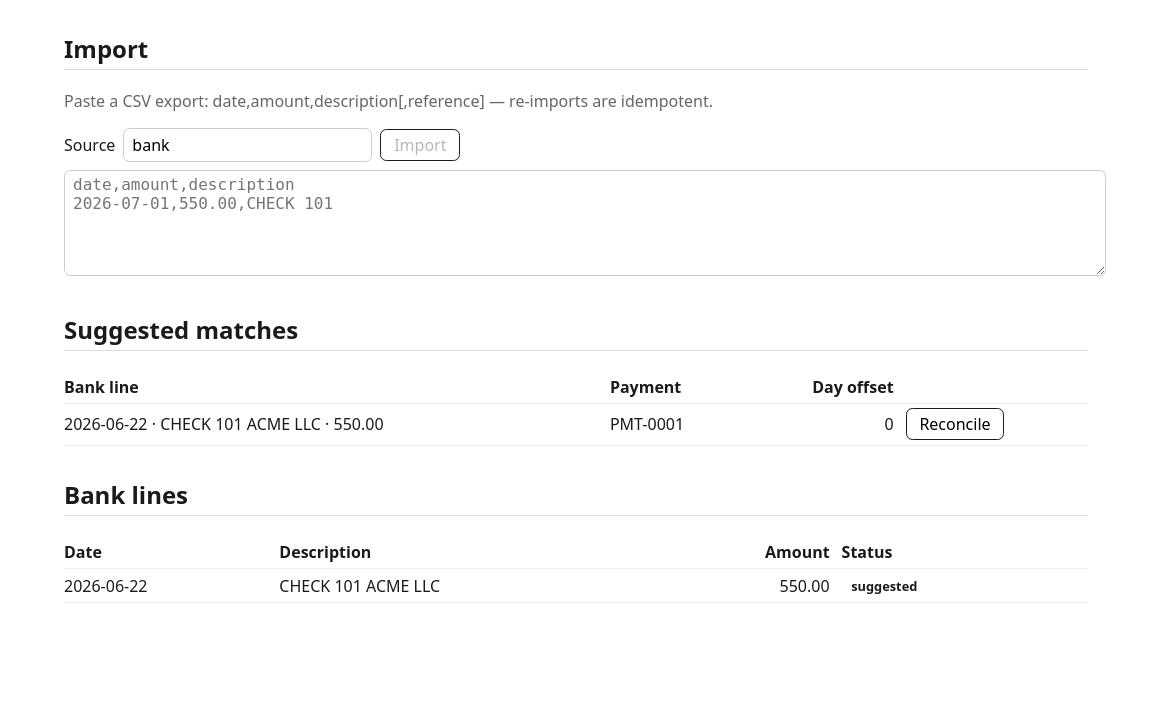
Test: bank reconciliation view (ADR 0020) › surfaces the API error code, not just prose
Click the button "Reconcile". click: (955, 424)
box: [906,408,1004,440]
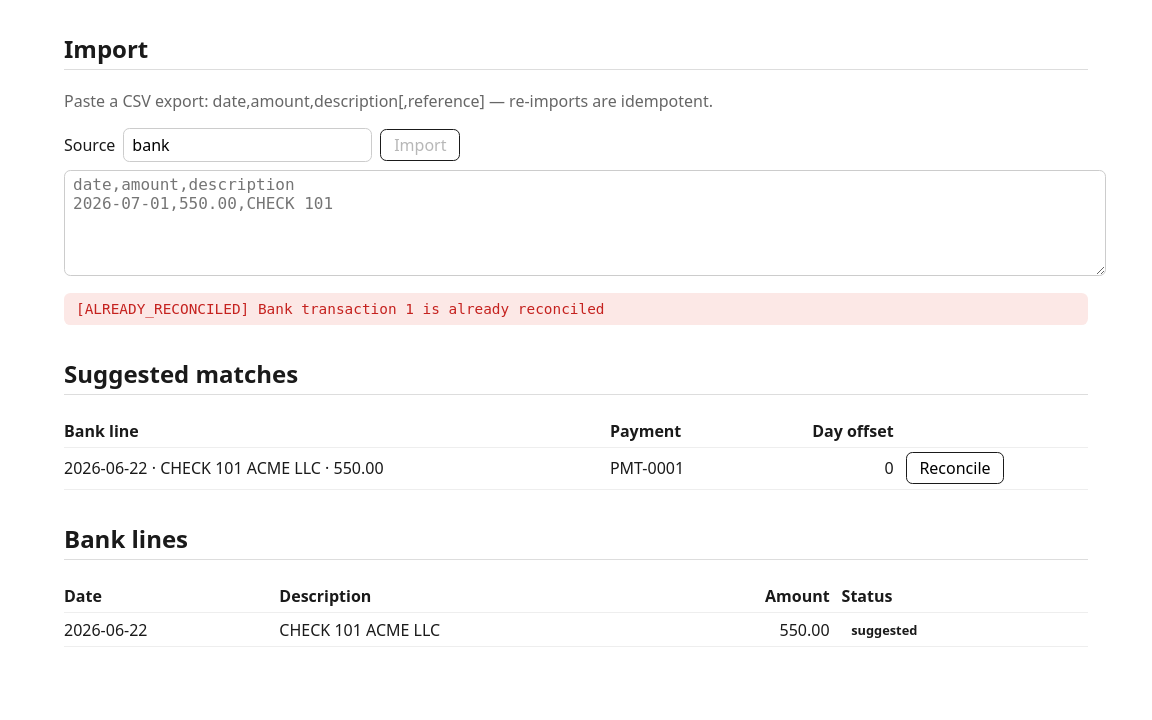
Check: the text "[ALREADY_RECONCILED] Bank transaction 1 is already reconciled" is shown, box [64,293,1088,325]
